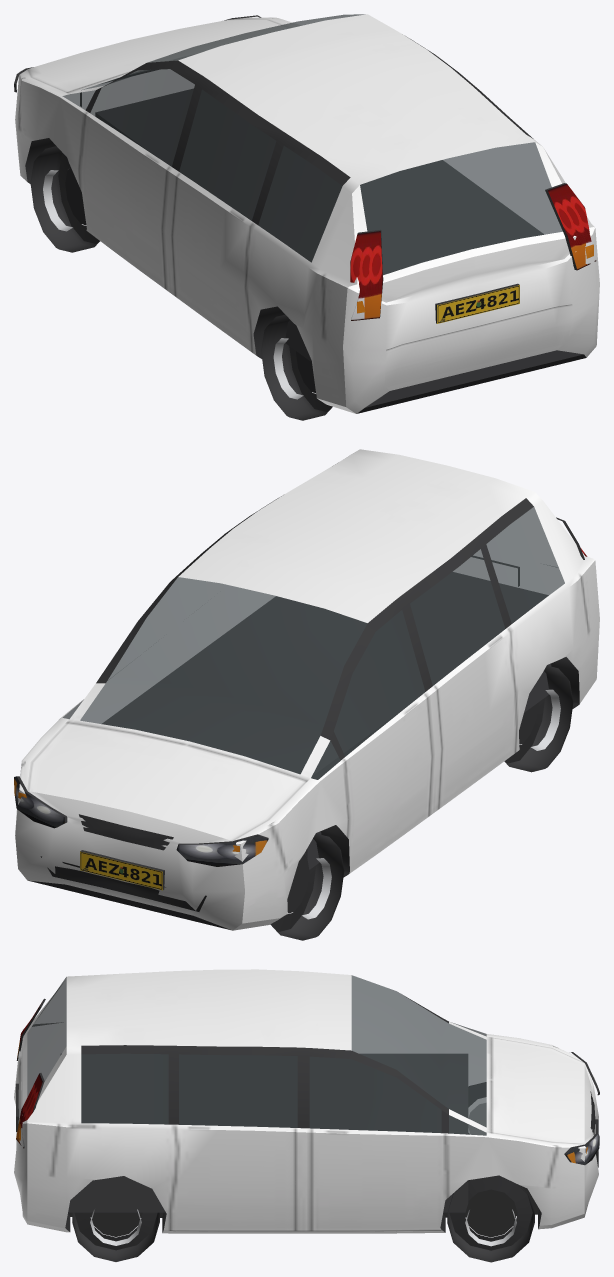
File: hatch_fit_lod1.glb
The picture shows the model from 3 angles, top to bottom: view 1: azimuth 30°, elevation 25°; view 2: azimuth 150°, elevation 25°; view 3: azimuth 270°, elevation 25°; orthographic projection. The views are drawn at different scales.
Visible parts, largest first — view 1: body, wheel_fl_mesh, wheel_rl_mesh; view 2: body, wheel_fl_mesh, wheel_rl_mesh; view 3: body, wheel_fr_mesh, wheel_rr_mesh, wheel_fl_mesh.
Boxes of the visible parts, x1,y1,x2,y2 form: body: (14, 14, 599, 413); wheel_fl_mesh: (30, 146, 99, 252); wheel_rl_mesh: (261, 314, 332, 420); body: (14, 449, 599, 930); wheel_fl_mesh: (270, 833, 344, 940); wheel_rl_mesh: (504, 665, 573, 772); body: (14, 969, 599, 1233); wheel_fr_mesh: (447, 1175, 534, 1262); wheel_rr_mesh: (72, 1209, 159, 1261); wheel_fl_mesh: (468, 1082, 486, 1135).
Size of the model in its own units: 1.7 by 1.52 by 3.91.
Materials: 10 (5 with a texture image).
